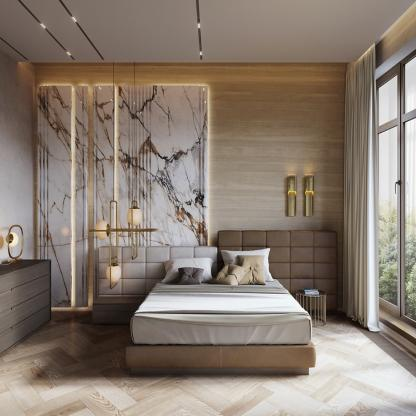Bed: (131, 233, 315, 373)
Curtains: (339, 45, 380, 332)
Sideboard: (0, 260, 52, 358)
Wall Panel: (31, 63, 344, 278)
Window: (374, 39, 416, 350)
Wooden floor: (0, 313, 416, 416)
